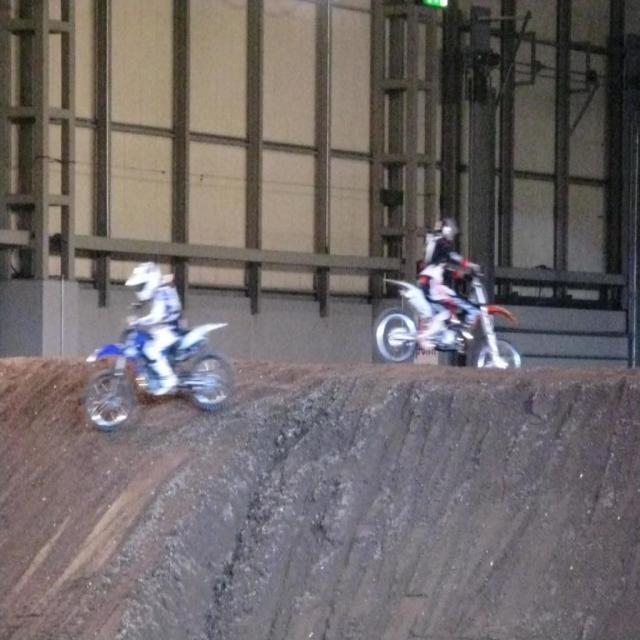Motorbikes: (80, 265, 238, 434), (362, 264, 522, 389)
